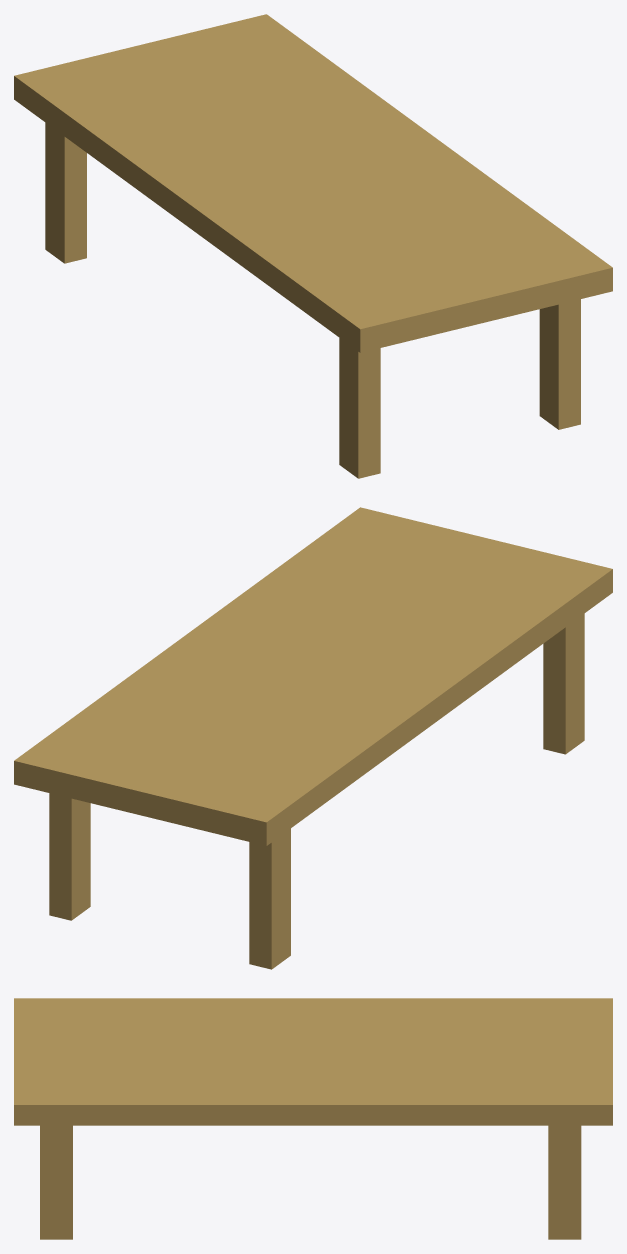
Rendered from Decor_Table.fbx.
3 renders of one model, top to bottom at view 1: azimuth 30°, elevation 25°; view 2: azimuth 150°, elevation 25°; view 3: azimuth 270°, elevation 25°, orthographic. The views are drawn at different scales.
Parts seen in each view (by area): view 1: Table01; view 2: Table01; view 3: Table01.
Boxes of the visible parts, x1,y1,x2,y2 form: Table01: [14, 14, 612, 478]; Table01: [14, 507, 612, 969]; Table01: [14, 998, 612, 1239].
Size of the model in its own units: 1.35 by 0.839 by 3.22.
1 material, 1 textured.
